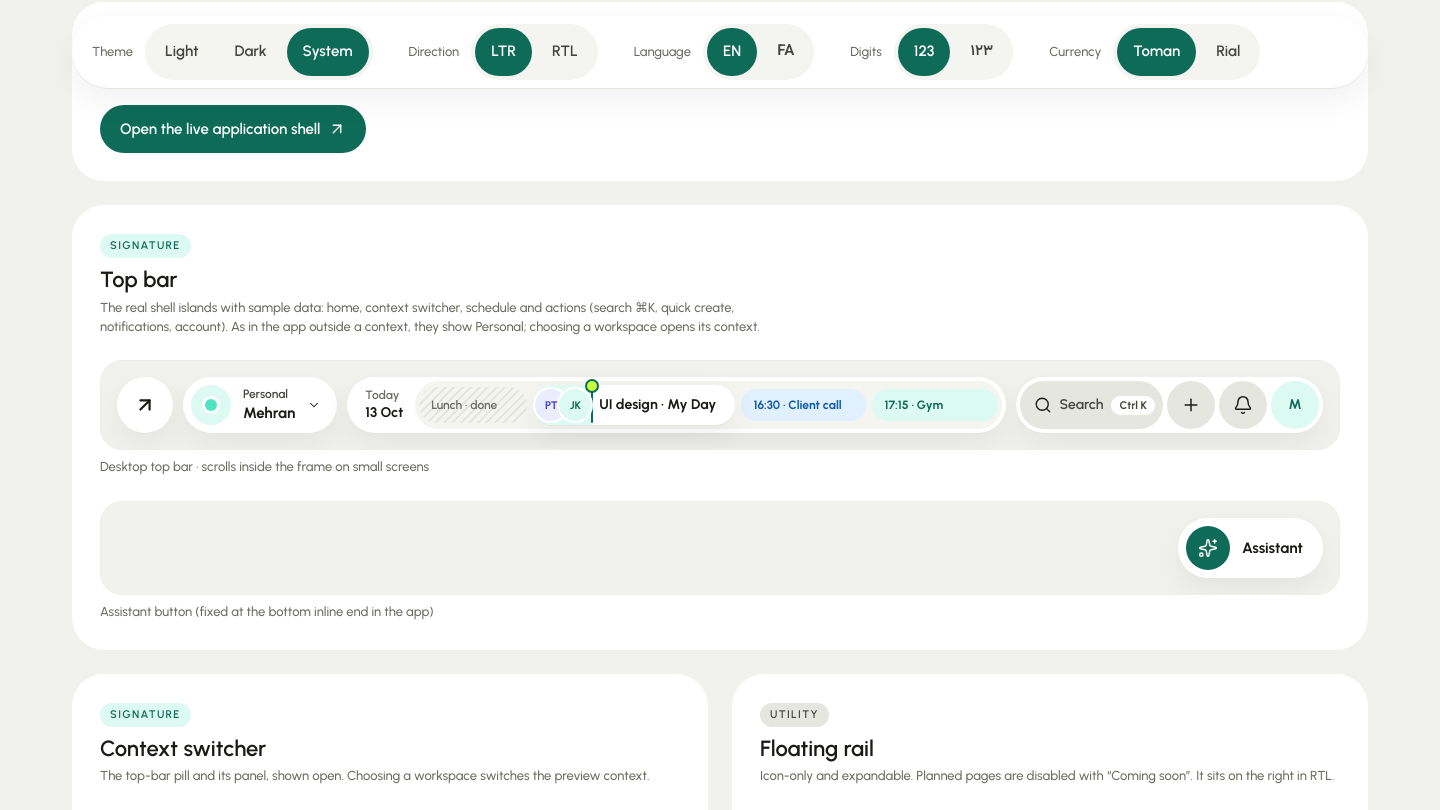
Test: NavigationView › previews the real top bar islands
(page scrolled)
Expected: the button "Personal Mehran" is shown, [183, 377, 337, 433]
Expected: the button named "Notifications" is shown, [1219, 381, 1267, 429]
Click the button with aria-label "Search and commands" at [1091, 405], box [1020, 381, 1163, 429]
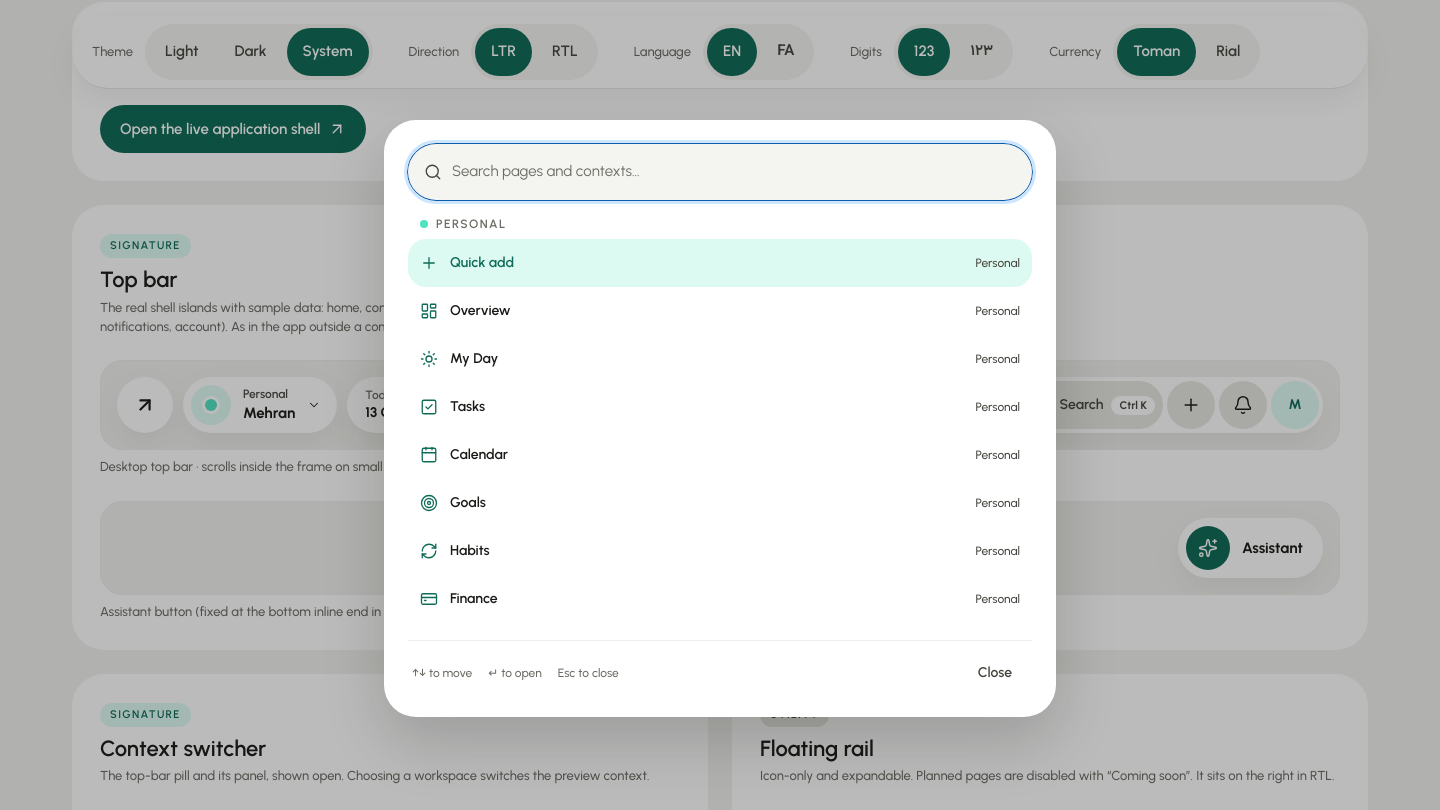
Expected: the dialog named "Search and commands" is shown, [384, 120, 1056, 717]
